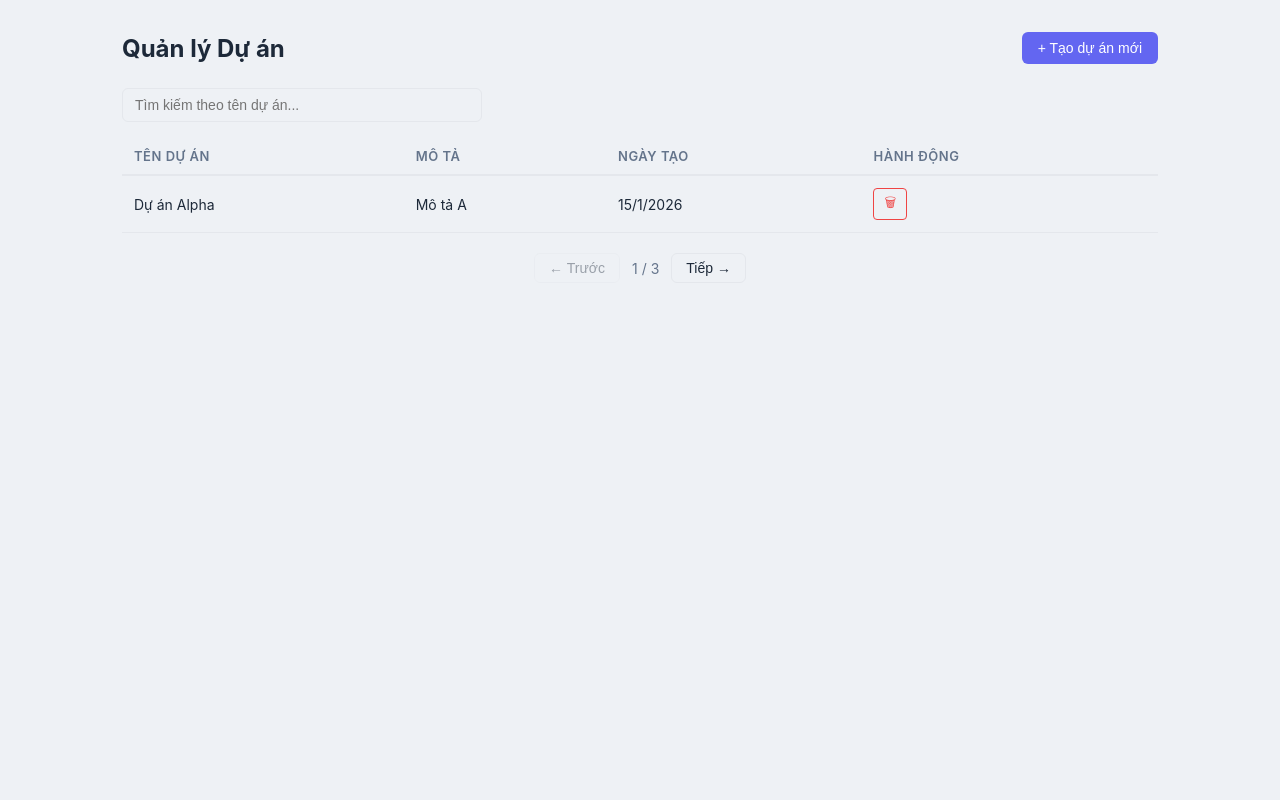
Scenario: ProjectsPage › AC#4: xóa item cuối trên trang > 0 → tự lùi về trang trước
Expected: the text "Dự án Alpha" is shown, [122, 175, 404, 232]
Note: Chuyển sang trang 2 (index 1) — page indicator "2 / 3"
Click the button "Tiếp →" at (709, 268), box [671, 253, 746, 283]
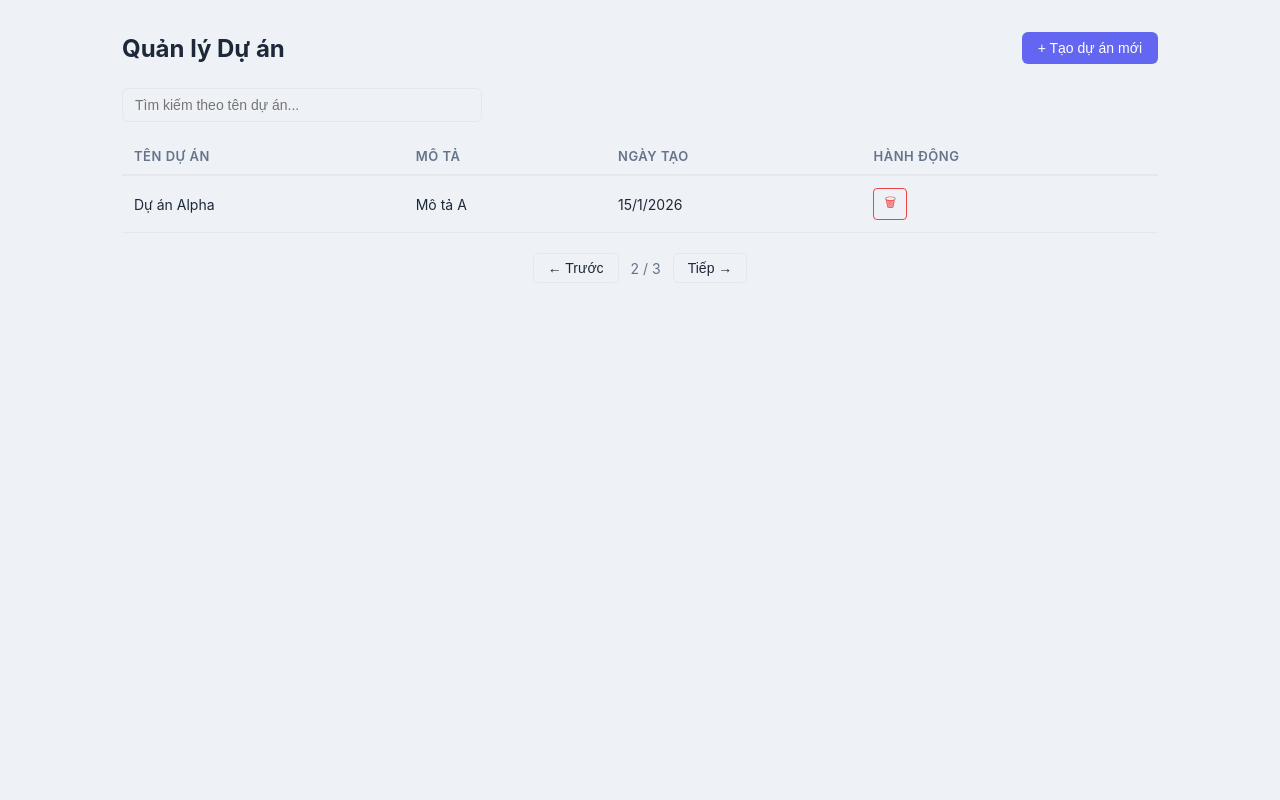
Expected: the text "2 / 3" is shown, [631, 260, 661, 276]
Note: Mở modal xóa và xác nhận
Click the button named "Xóa" at (890, 204), box [874, 188, 907, 220]
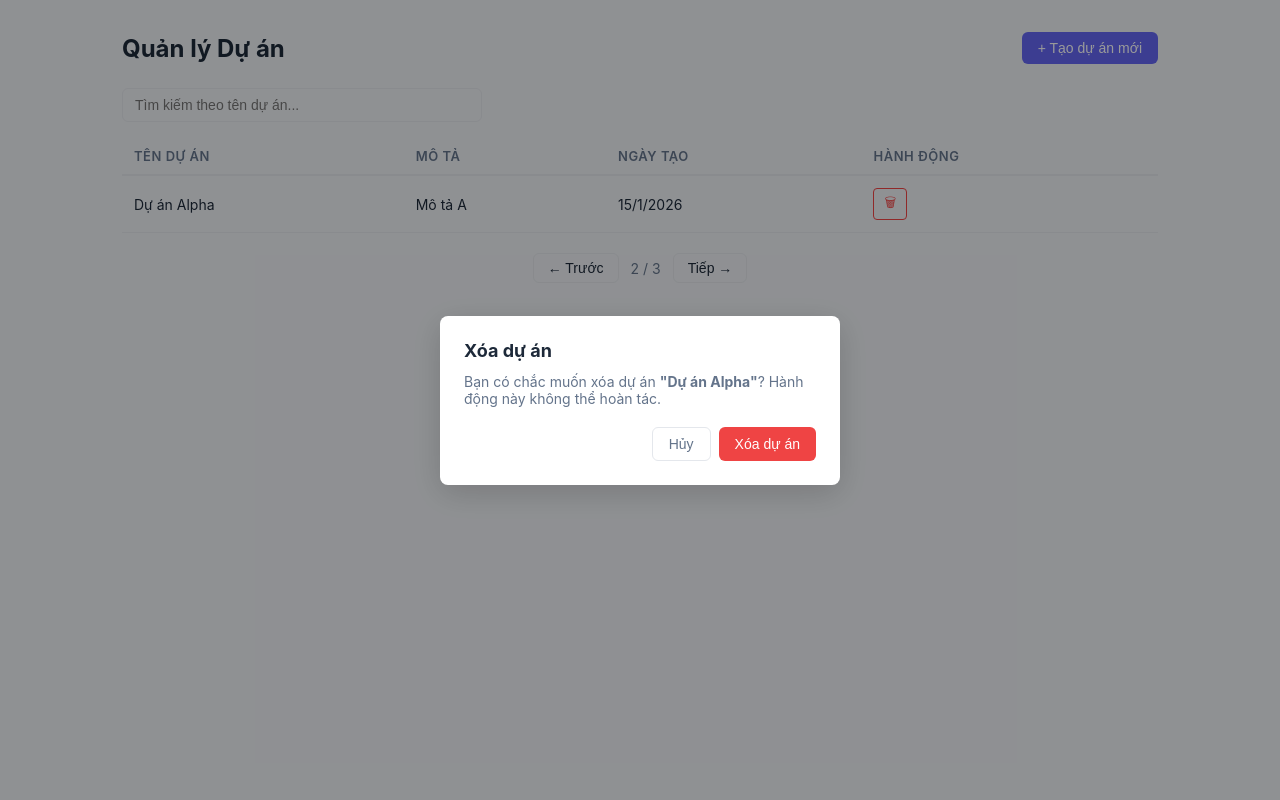
Click the button "Xóa dự án" at (767, 444), box [719, 426, 816, 460]
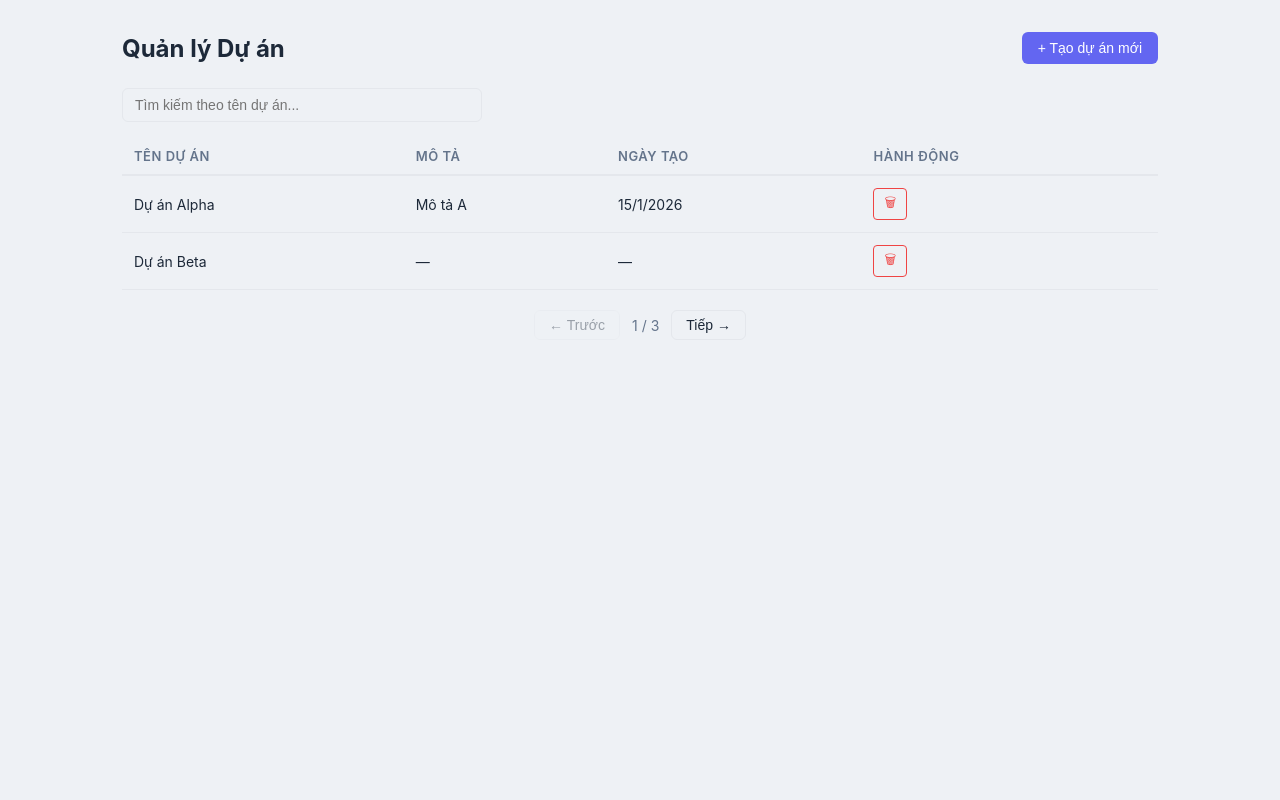
Expected: the text "1 / 3" is shown, [632, 316, 659, 334]
